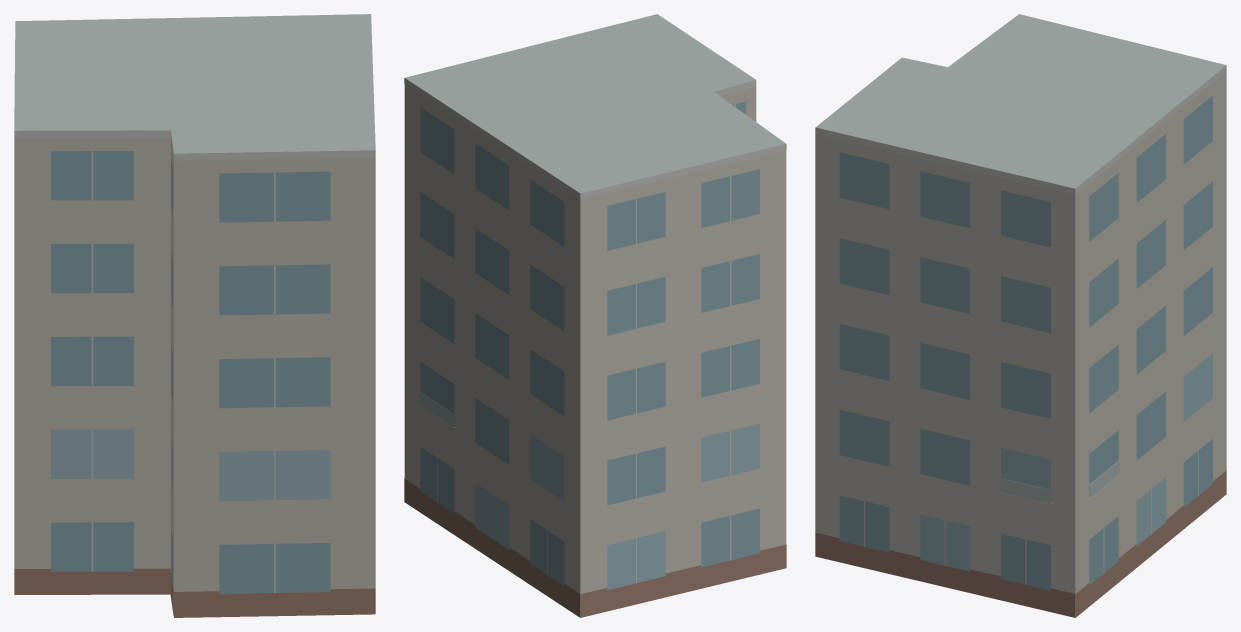
The model's file is survey-upis-33039500.glb.
3 renders of one model, left to right at view 1: azimuth 30°, elevation 25°; view 2: azimuth 150°, elevation 25°; view 3: azimuth 270°, elevation 25°, orthographic. The views are drawn at different scales.
Visible parts, largest first — view 1: survey-upis-33039500.tmp; view 2: survey-upis-33039500.tmp; view 3: survey-upis-33039500.tmp.
Boxes of the visible parts, x1=… form: survey-upis-33039500.tmp: x1=14, y1=14, x2=375, y2=617; survey-upis-33039500.tmp: x1=404, y1=14, x2=786, y2=617; survey-upis-33039500.tmp: x1=815, y1=14, x2=1226, y2=617.
Size of the model in its own units: 14.19 by 16.24 by 14.11.
